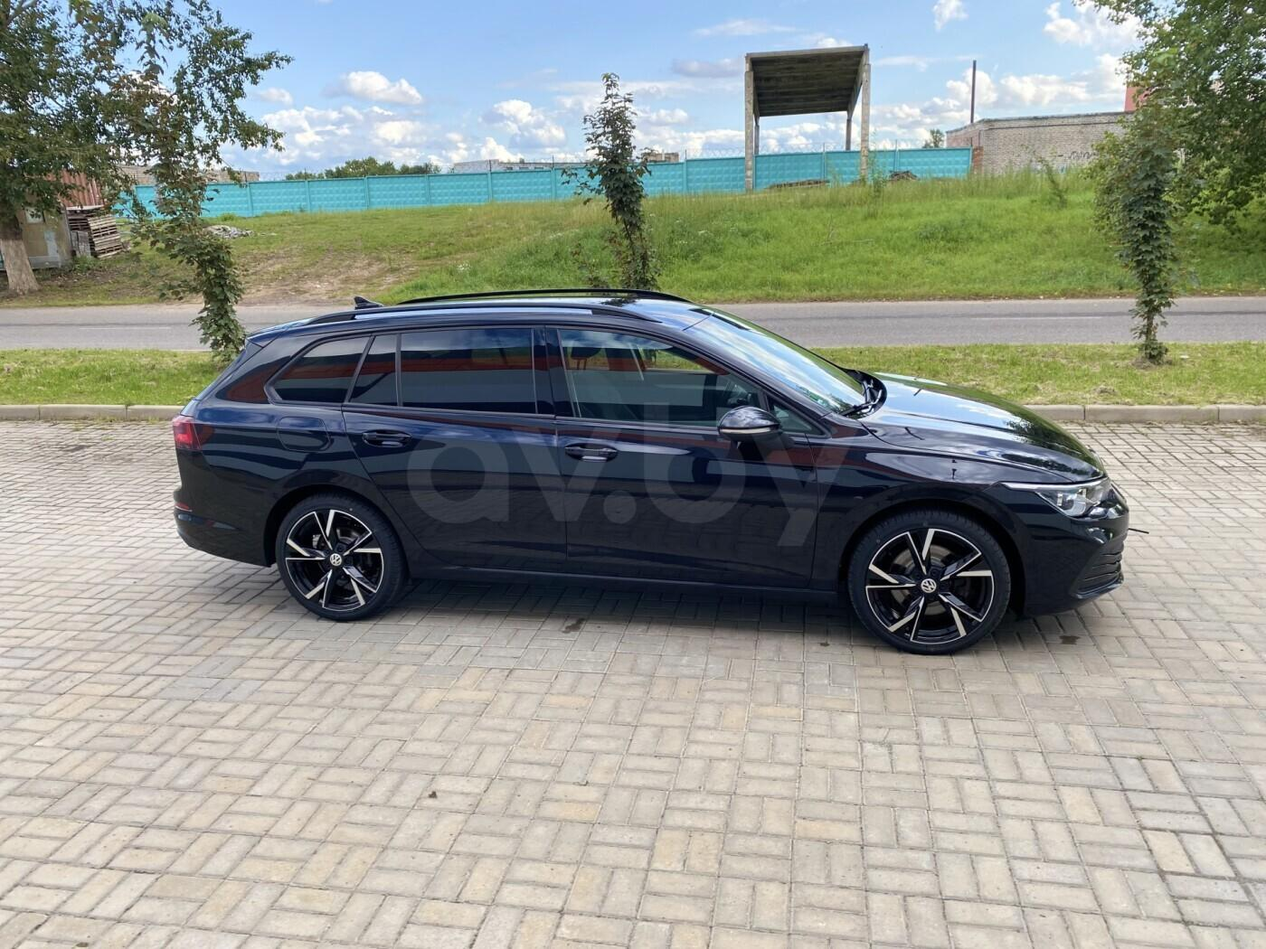Golf_2019: (171, 284, 1136, 657)
